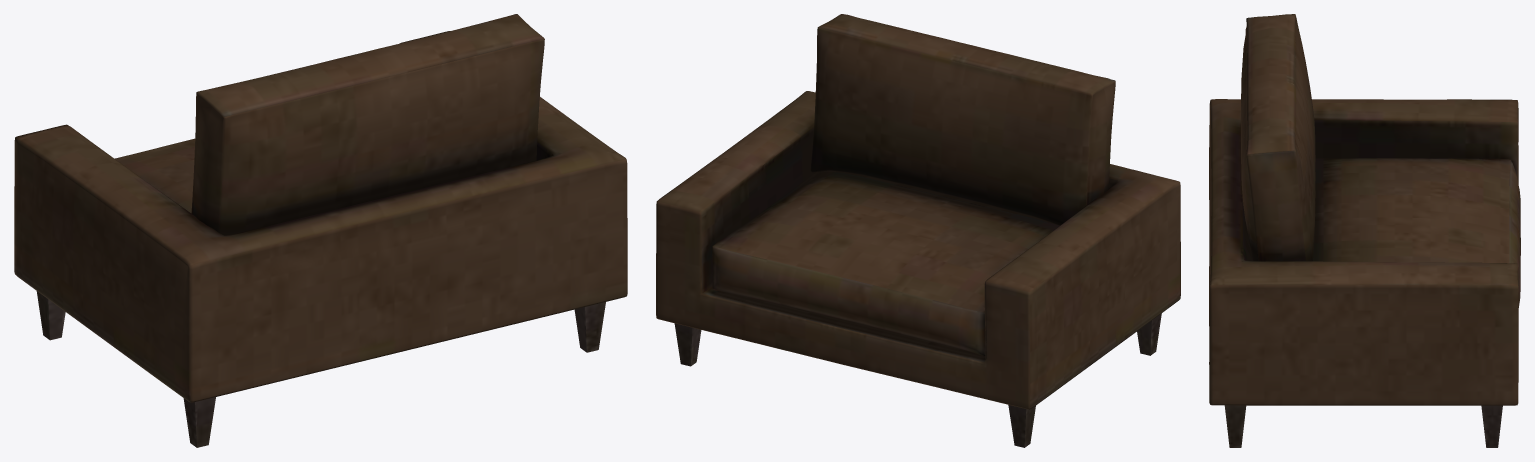
Rendered from Sofa37.glb.
3 renders of one model, left to right at view 1: azimuth 30°, elevation 25°; view 2: azimuth 150°, elevation 25°; view 3: azimuth 270°, elevation 25°, orthographic. The views are drawn at different scales.
Parts seen in each view (by area): view 1: Sofa37_model; view 2: Sofa37_model; view 3: Sofa37_model.
Part boxes in pixels (<box>): Sofa37_model: <box>14,14,627,447</box>; Sofa37_model: <box>656,14,1180,447</box>; Sofa37_model: <box>1209,14,1520,447</box>.
Bounding box in the file's own units: 2.55 × 1.8 × 1.8.
Materials: 1 (1 with a texture image).
